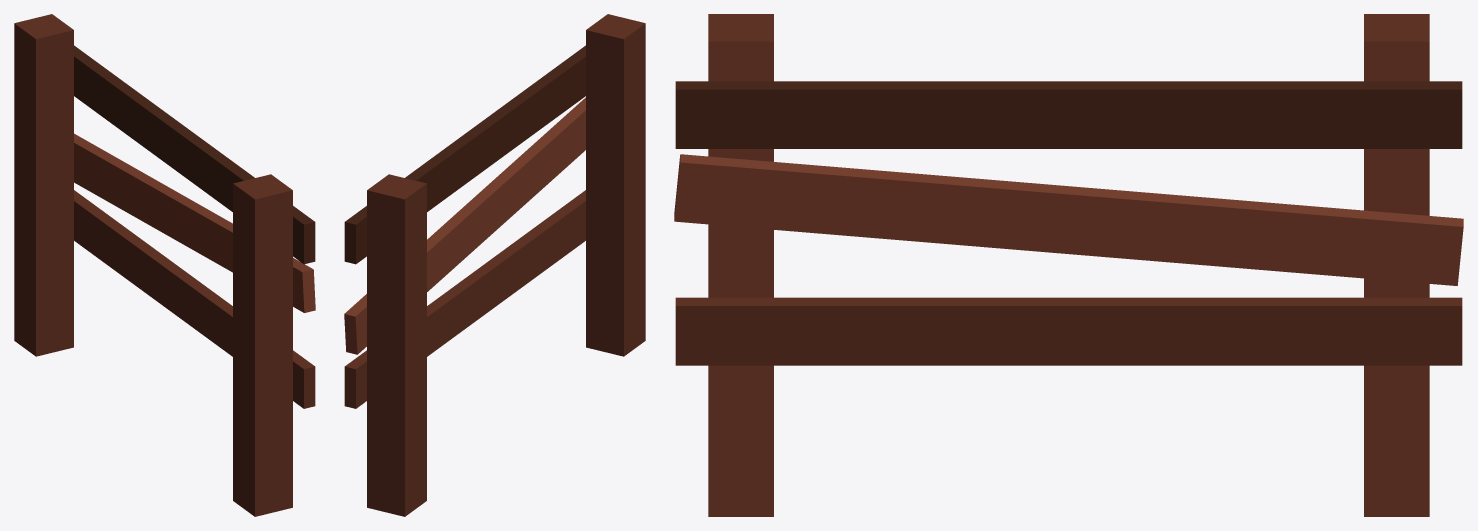
The model's file is SM_Barriers_02.fbx.
The picture shows the model from 3 angles, left to right: view 1: azimuth 30°, elevation 25°; view 2: azimuth 150°, elevation 25°; view 3: azimuth 270°, elevation 25°; orthographic projection. The views are drawn at different scales.
Parts seen in each view (by area): view 1: SM_Barriers_02; view 2: SM_Barriers_02; view 3: SM_Barriers_02.
Boxes of the visible parts, x1,y1,x2,y2 form: SM_Barriers_02: (14,14,315,516); SM_Barriers_02: (344,14,645,516); SM_Barriers_02: (674,14,1463,516).
Bounding box in the file's own units: 13.02 × 80 × 120.
